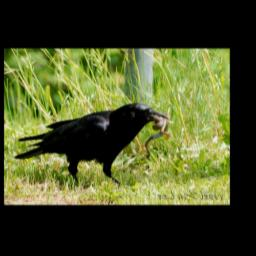Crow: (16, 103, 170, 185)
